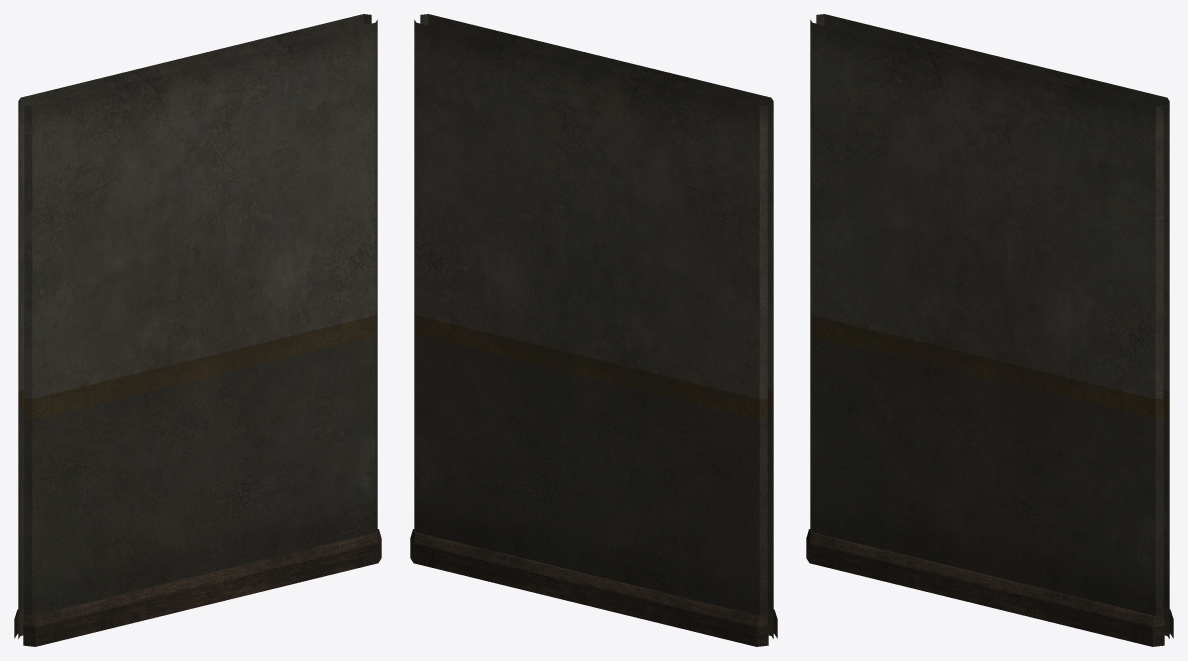
File: wall_1_half.obj
The picture shows the model from 3 angles, left to right: view 1: azimuth 30°, elevation 25°; view 2: azimuth 150°, elevation 25°; view 3: azimuth 330°, elevation 25°; orthographic projection.
Parts seen in each view (by area): view 1: wall_1_half; view 2: wall_1_half; view 3: wall_1_half.
Part boxes in pixels (<box>): wall_1_half: <box>14,14,381,646</box>; wall_1_half: <box>410,14,777,646</box>; wall_1_half: <box>806,14,1173,646</box>.
Bounding box in the file's own units: 2.09 × 3 × 0.18.
